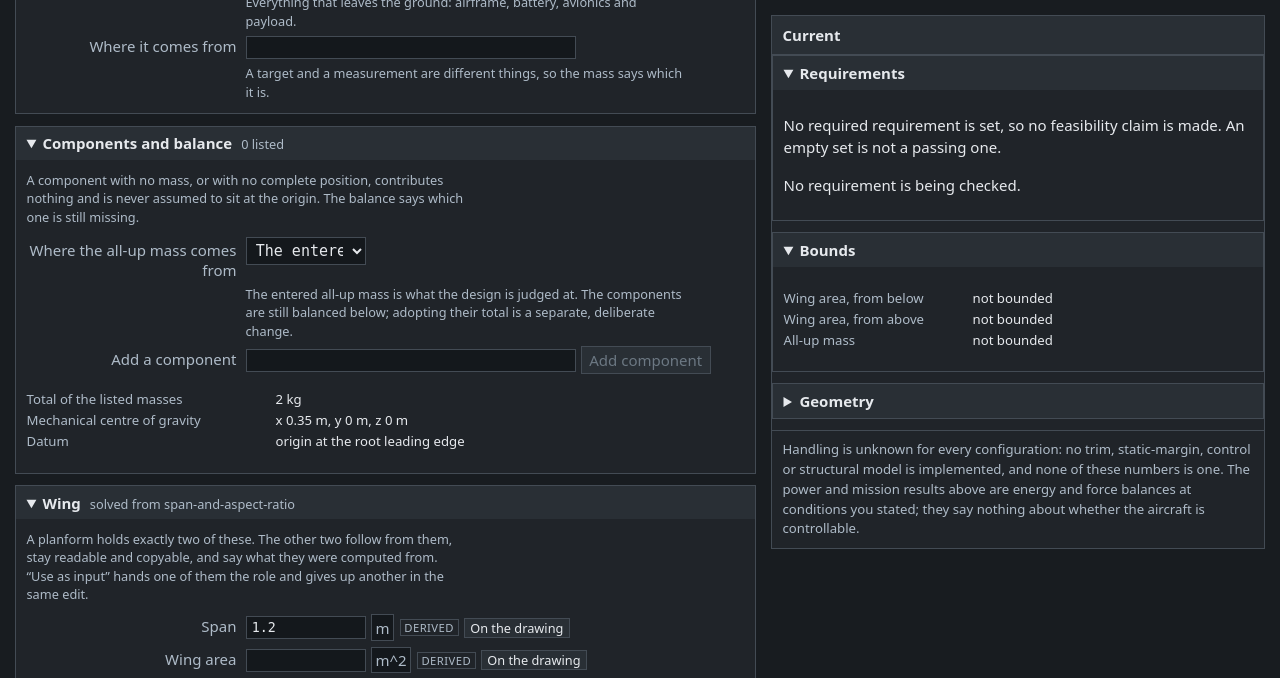
Test: a sweep answer that arrives after the builder has moved on › an answer to a superseded question does not replace the plot
(page scrolled)
Expected: the text "Current" is shown, [782,25,840,45]
Step 1. Type "seed" into the field labelled "Add a component" → (410, 360), box [246,349,576,372]
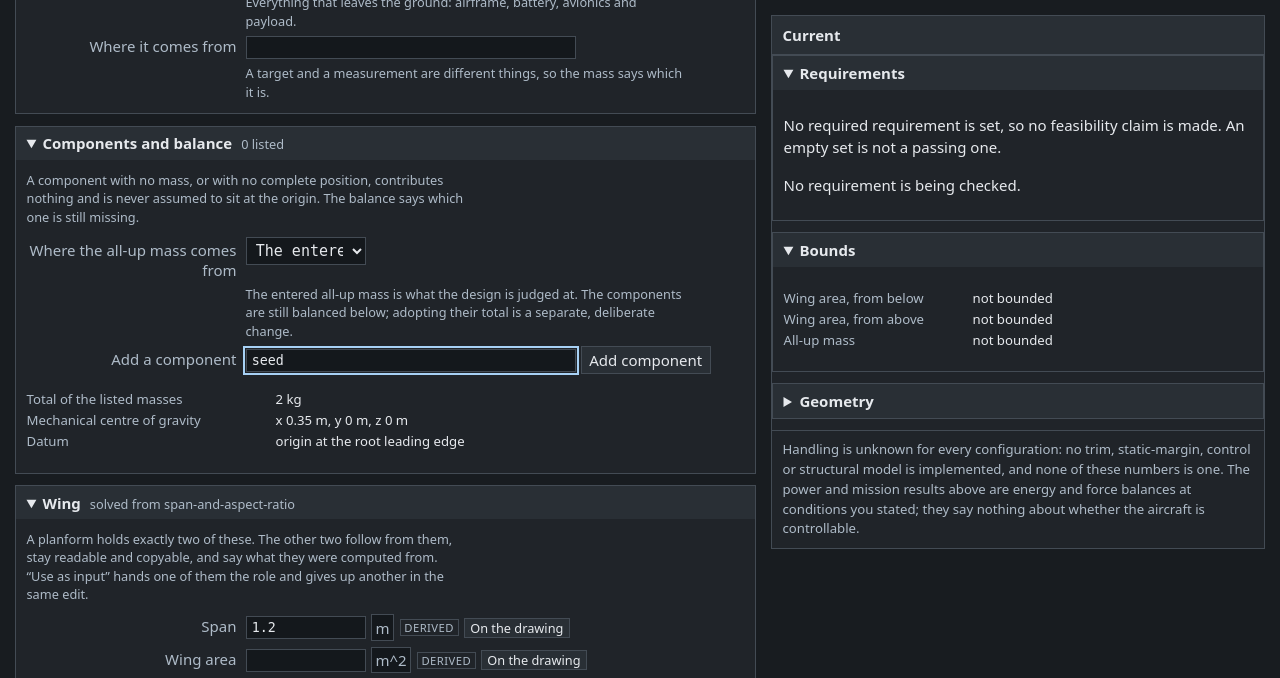
Step 2. Click the button "Add component" → (646, 360), box [581,346,711,374]
(page scrolled)
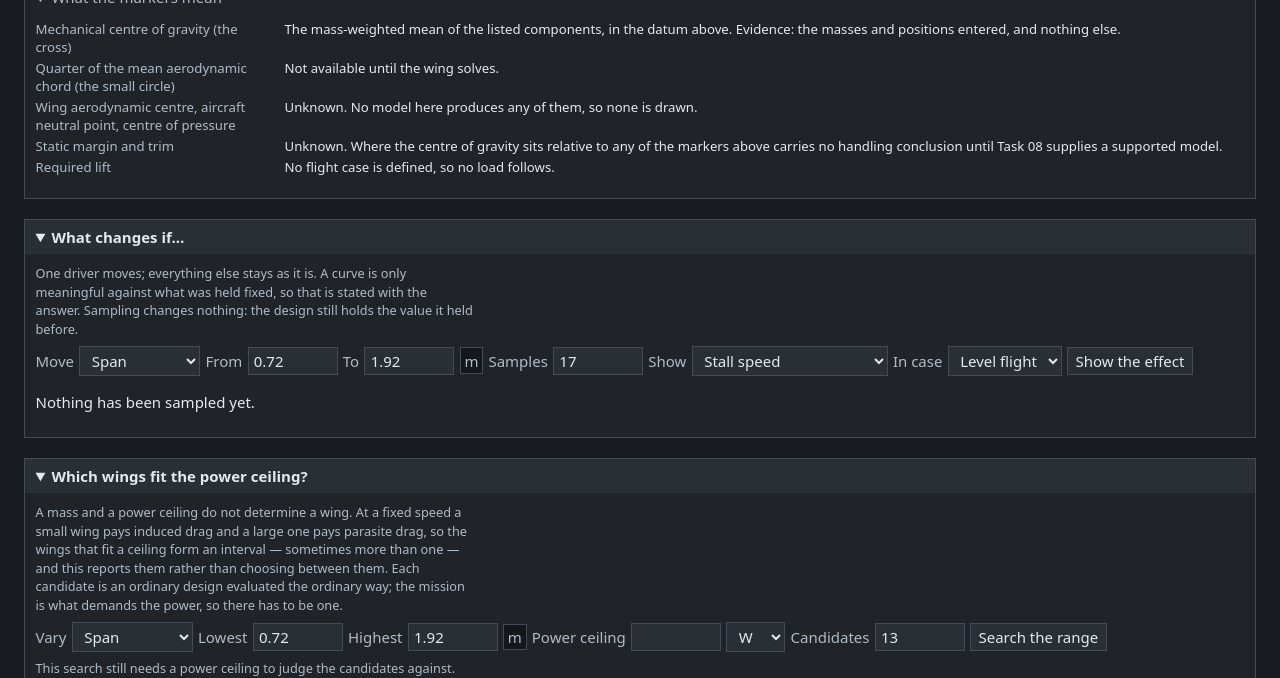
Step 3. Click the button "Show the effect" → (1130, 361), box [1067,347,1193,375]
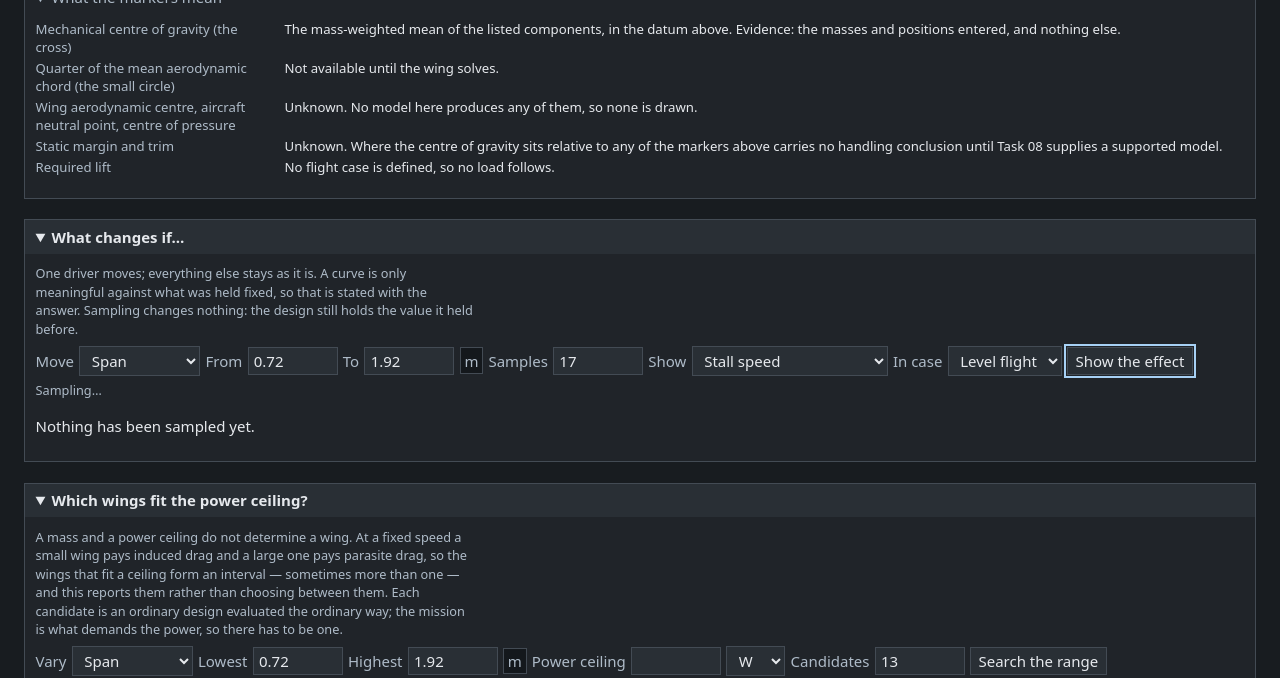
Step 4. Click the button "Show the effect" → (1130, 361), box [1067,347,1193,375]
(page scrolled)
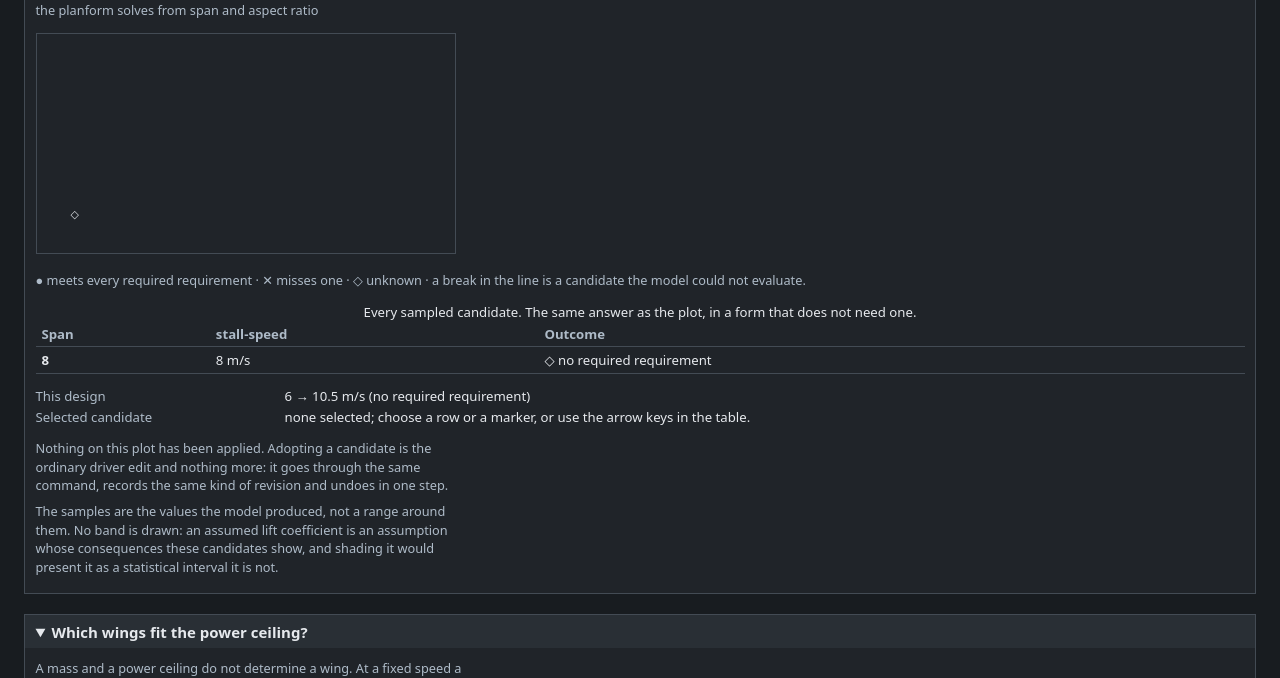
Now the option shows "8", box [36,347,1244,373]
